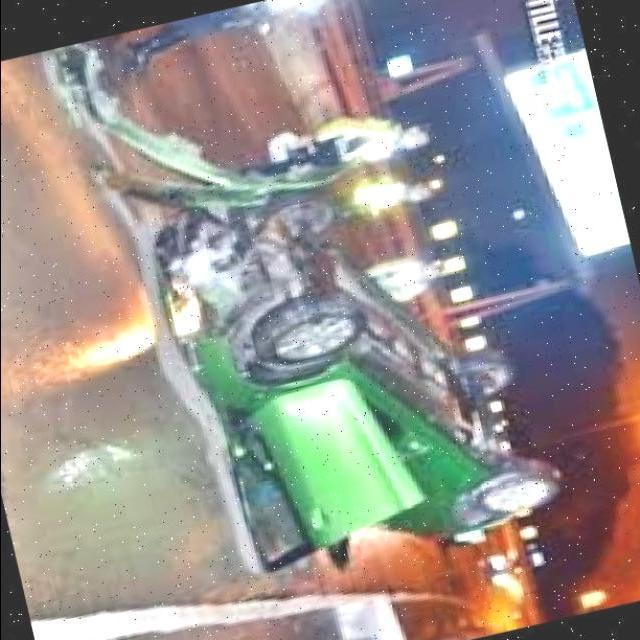accident: (109, 75, 579, 620)
